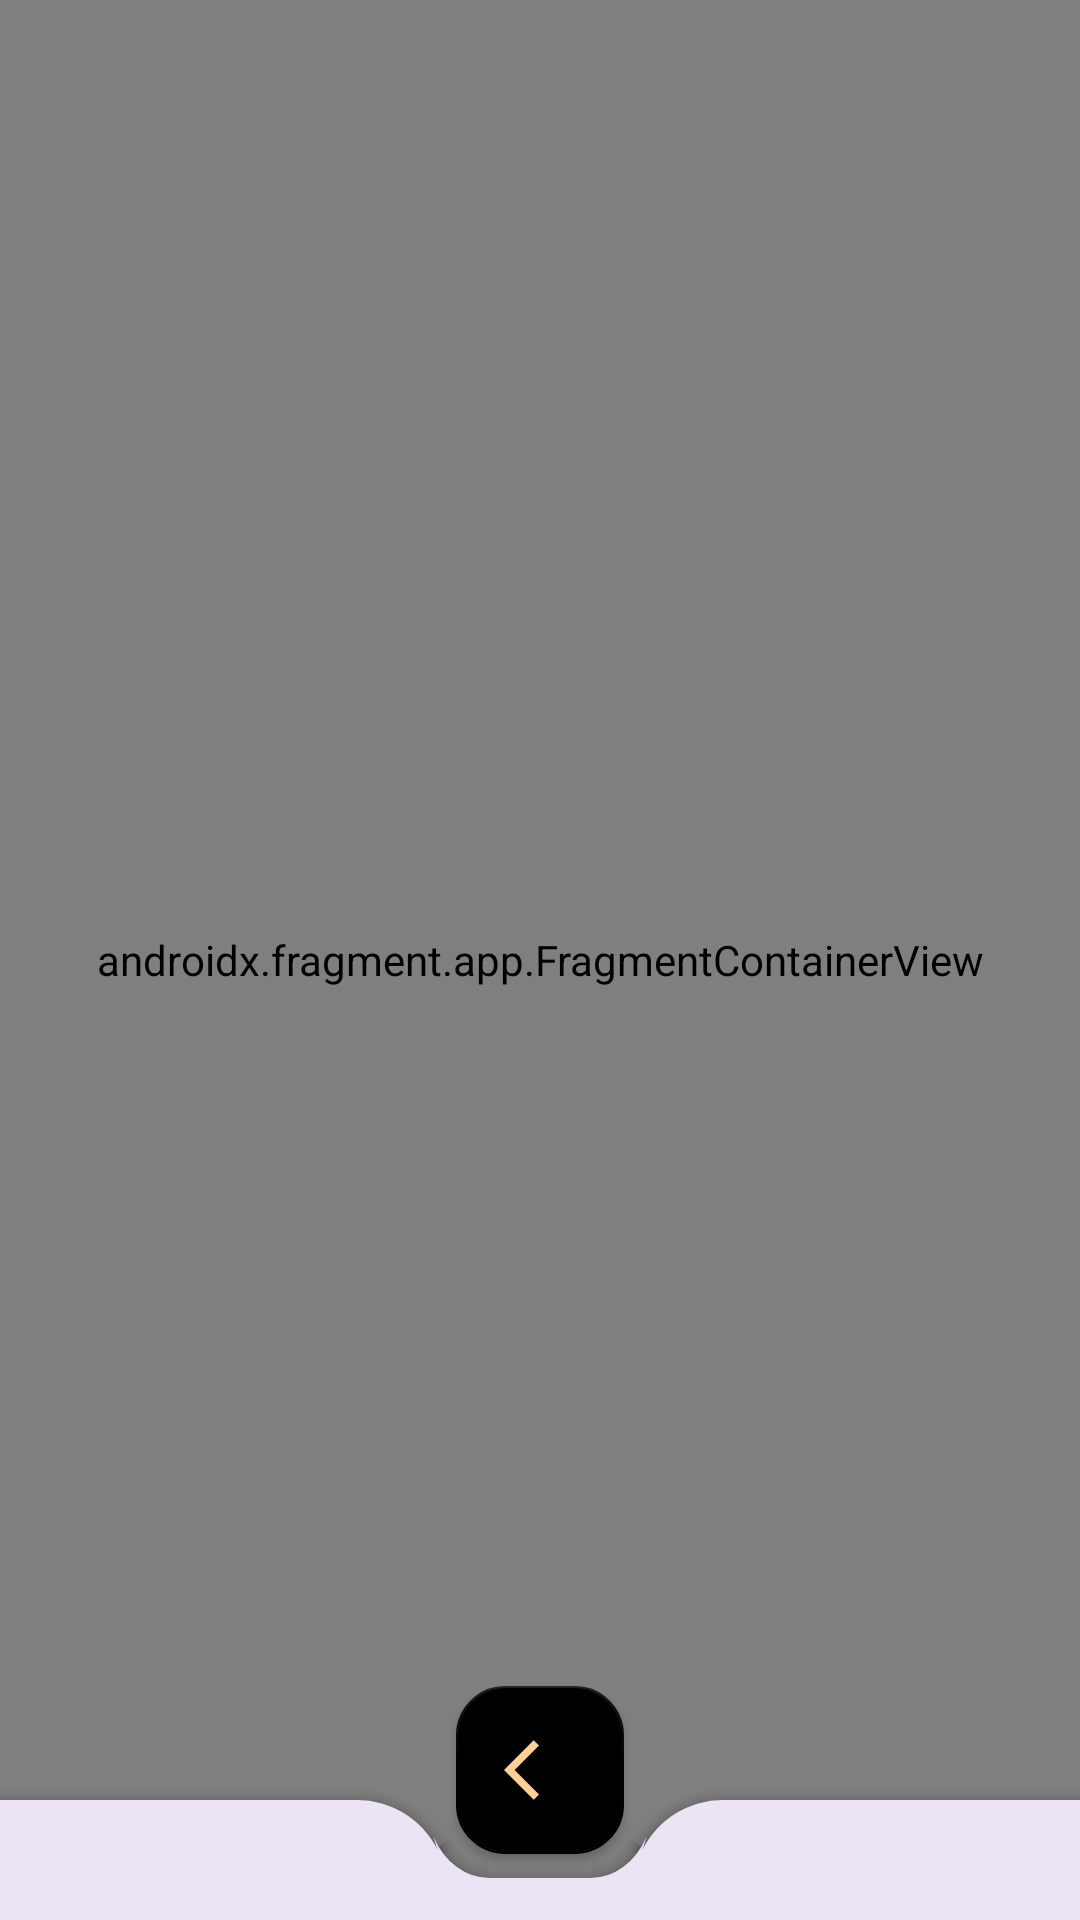

Screen size 1080x1920. Icon name, then its center in pixels as [x,y]:
arrow back: [540,1788]
